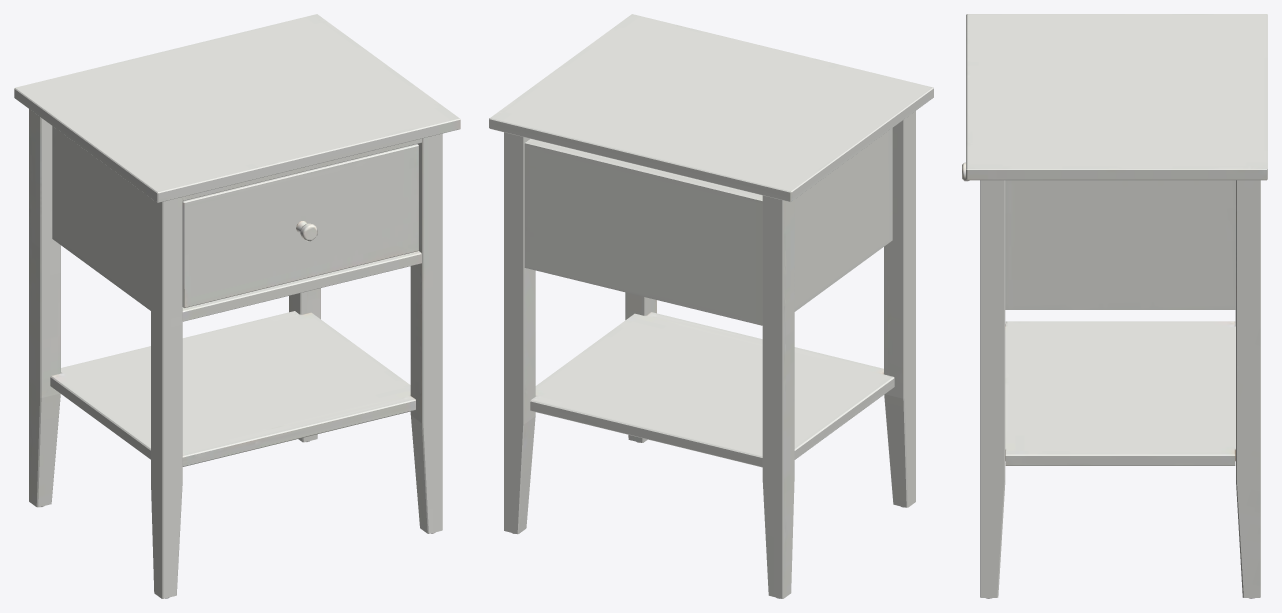
The picture shows the model from 3 angles, left to right: view 1: azimuth 30°, elevation 25°; view 2: azimuth 150°, elevation 25°; view 3: azimuth 270°, elevation 25°; orthographic projection. The views are drawn at different scales.
Visible parts, largest first — view 1: ASY_ART_20561740_S01_NV01, ASY_LPT01_20561740_S01_NV01; view 2: ASY_ART_20561740_S01_NV01; view 3: ASY_ART_20561740_S01_NV01.
Boxes of the visible parts, <box> form: ASY_ART_20561740_S01_NV01: <box>14,14,460,598</box>; ASY_LPT01_20561740_S01_NV01: <box>182,144,418,307</box>; ASY_ART_20561740_S01_NV01: <box>489,14,933,598</box>; ASY_ART_20561740_S01_NV01: <box>966,14,1267,598</box>.
Size of the model in its own units: 0.5258 by 0.69 by 0.4369.
Materials: 2 (2 with a texture image).
